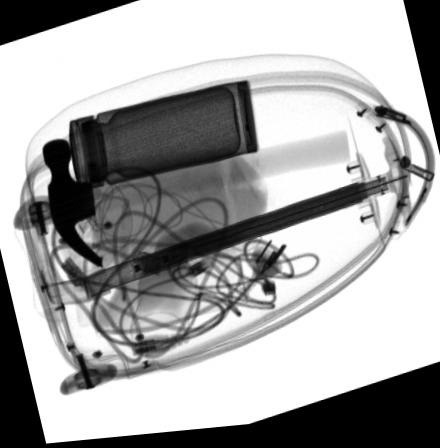Hammer: (42, 136, 350, 269)
